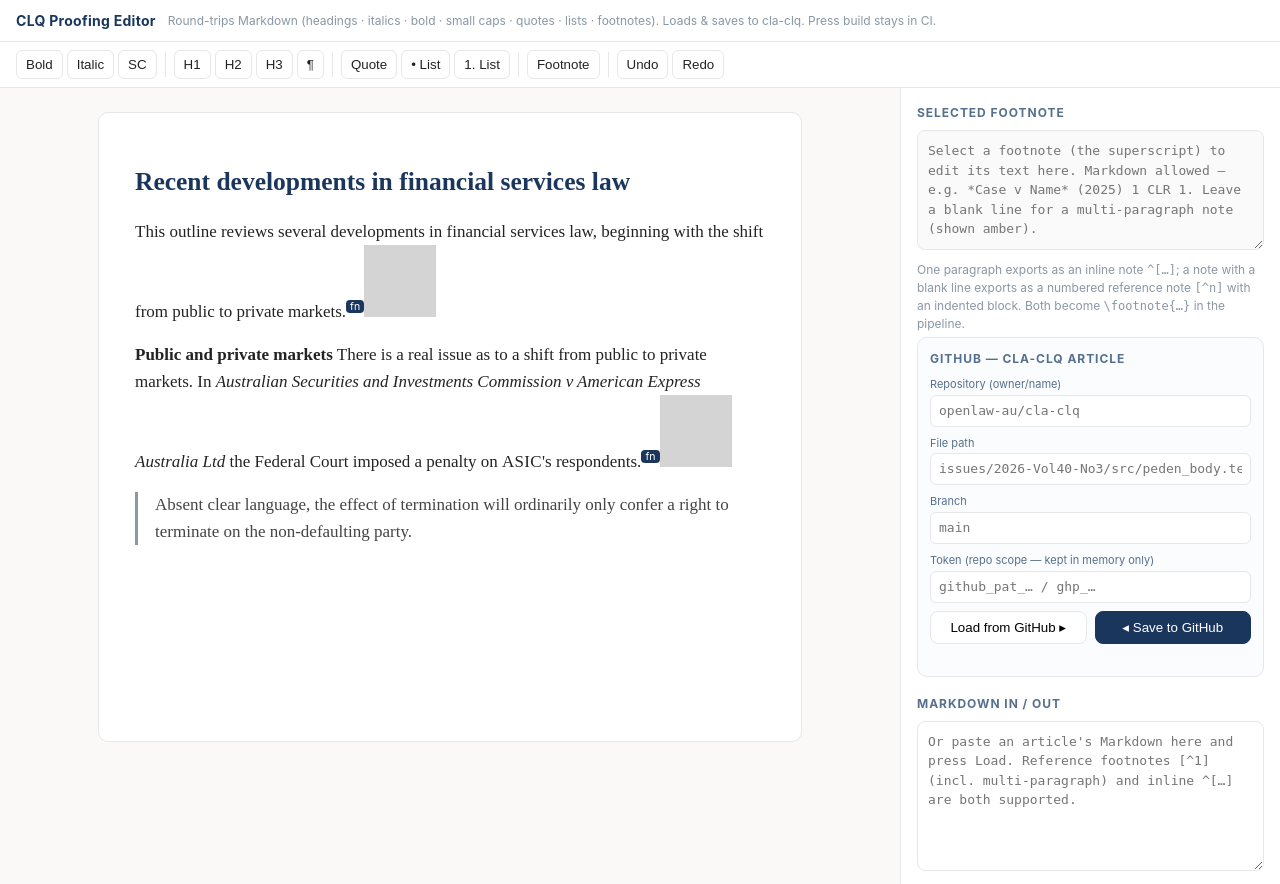
it: ProofingEditor › deselecting a footnote (moving selection elsewhere) clears the footnote panel
Press the mouse on the 1st text with class "clq-fn" at (355, 307), box [346,300,364,313]
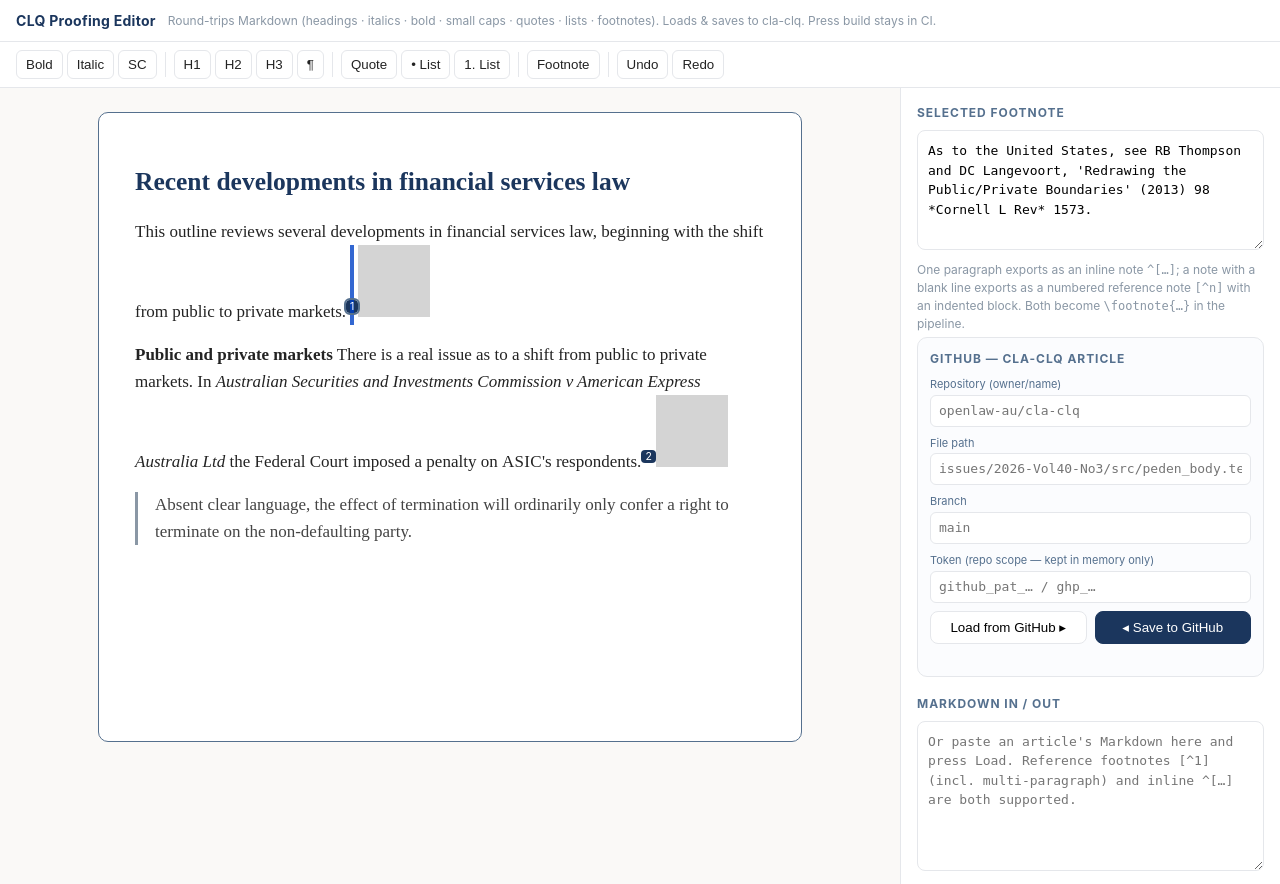
Now the text box with placeholder "Select a footnote" is enabled, box [917,130,1264,250]
Press ArrowRight in the 1st text box, box [98,112,802,742]
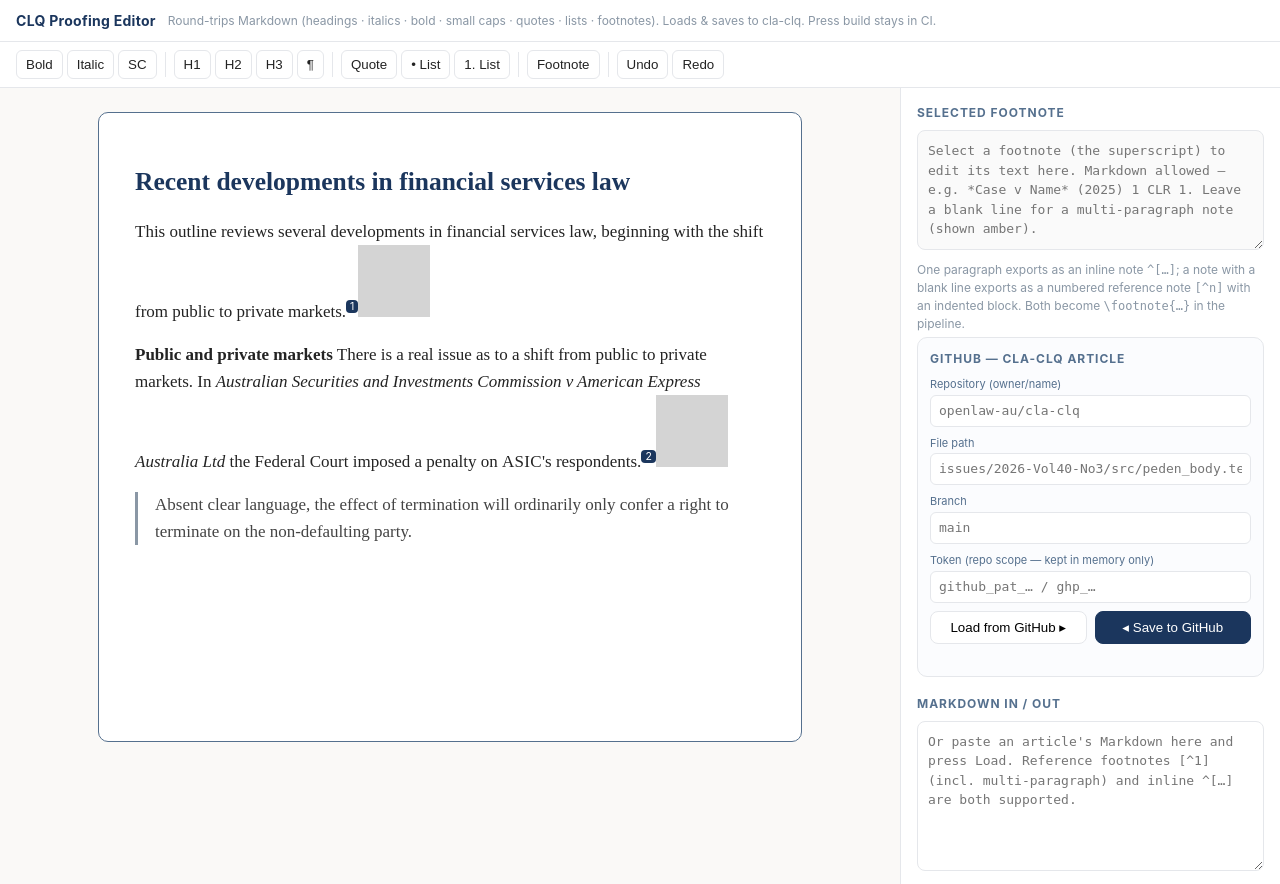
Now the text box with placeholder "Select a footnote" is disabled, box [917,130,1264,250]
